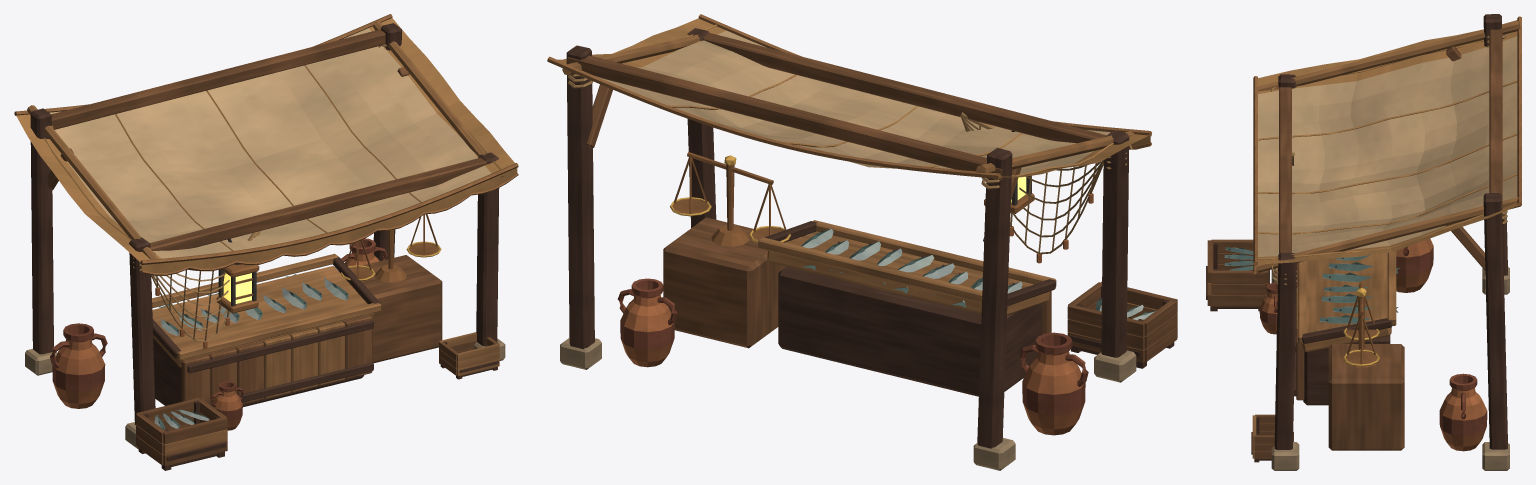
File: ithaca_fish_stall.glb
3 views of the same model, side by side, from view 1: azimuth 30°, elevation 25°; view 2: azimuth 150°, elevation 25°; view 3: azimuth 270°, elevation 25° (orthographic). The views are drawn at different scales.
Parts seen in each view (by area): view 1: Ithaca | Fish stall; view 2: Ithaca | Fish stall; view 3: Ithaca | Fish stall.
Boxes of the visible parts, x1=… form: Ithaca | Fish stall: x1=14, y1=14, x2=518, y2=470; Ithaca | Fish stall: x1=547, y1=14, x2=1177, y2=470; Ithaca | Fish stall: x1=1206, y1=14, x2=1521, y2=470.
Size of the model in its own units: 4.93 by 3.04 by 3.19.
Materials: 7 (6 with a texture image).
